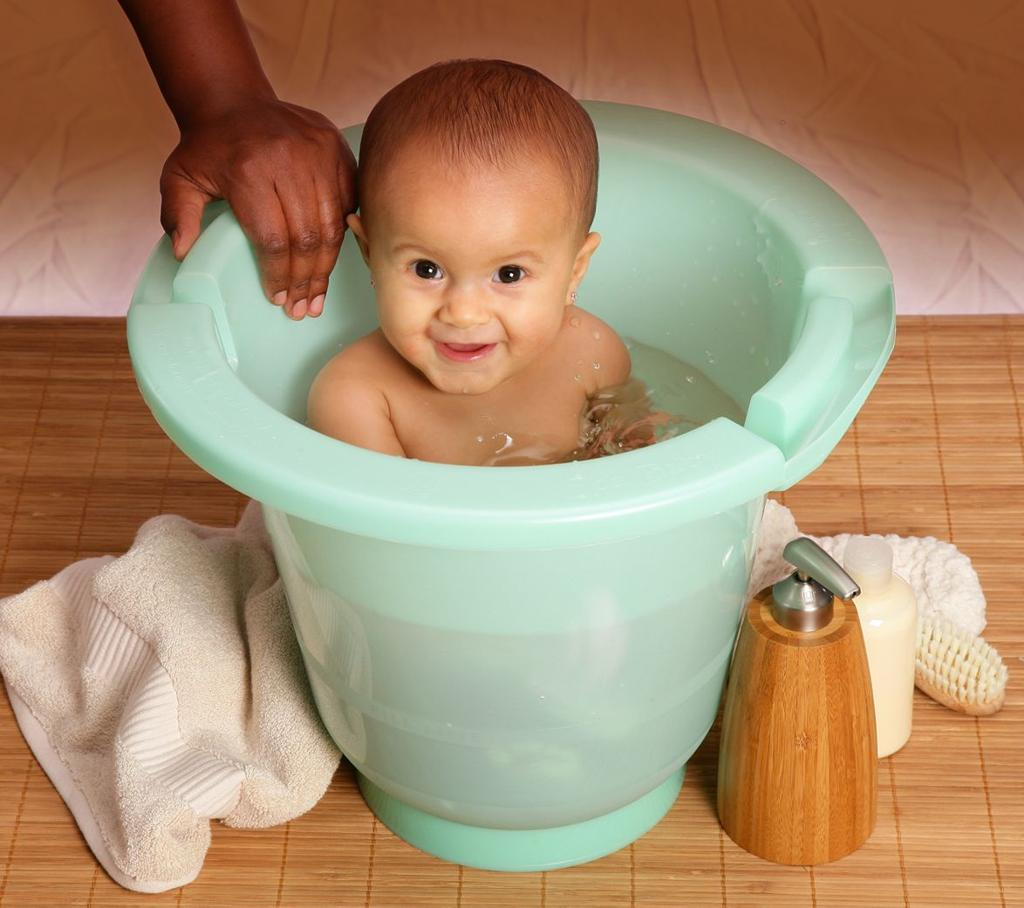face: (366, 182, 566, 392)
